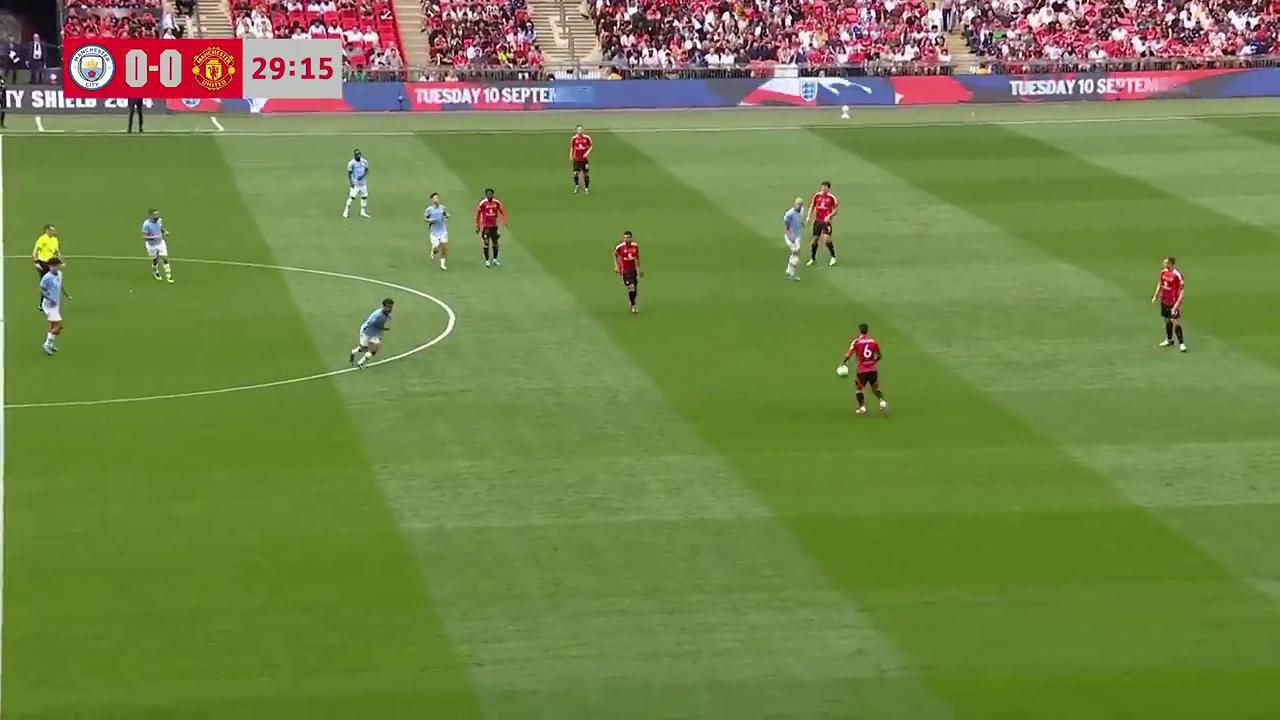ball: (835, 363, 850, 378)
player: (837, 322, 888, 416), (1151, 256, 1186, 351), (350, 297, 395, 369), (37, 259, 70, 354), (806, 182, 838, 267), (475, 188, 507, 268), (613, 230, 642, 314), (141, 208, 173, 283), (423, 192, 449, 270), (342, 149, 370, 219), (783, 202, 803, 282), (569, 127, 592, 194)
referee: (32, 223, 62, 275)
